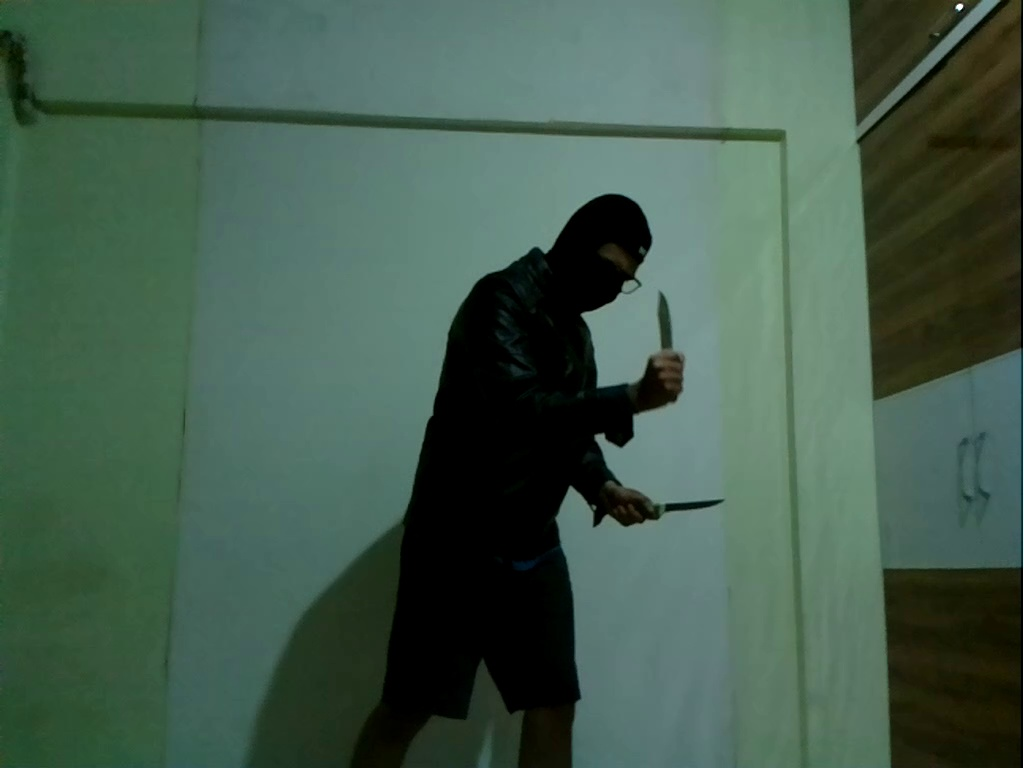knife: (643, 492, 730, 525), (651, 287, 679, 360)
